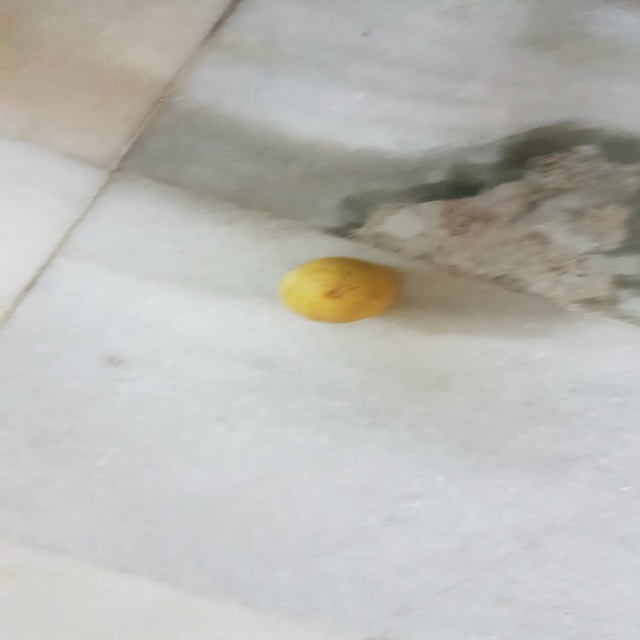lemon: (278, 249, 421, 338)
